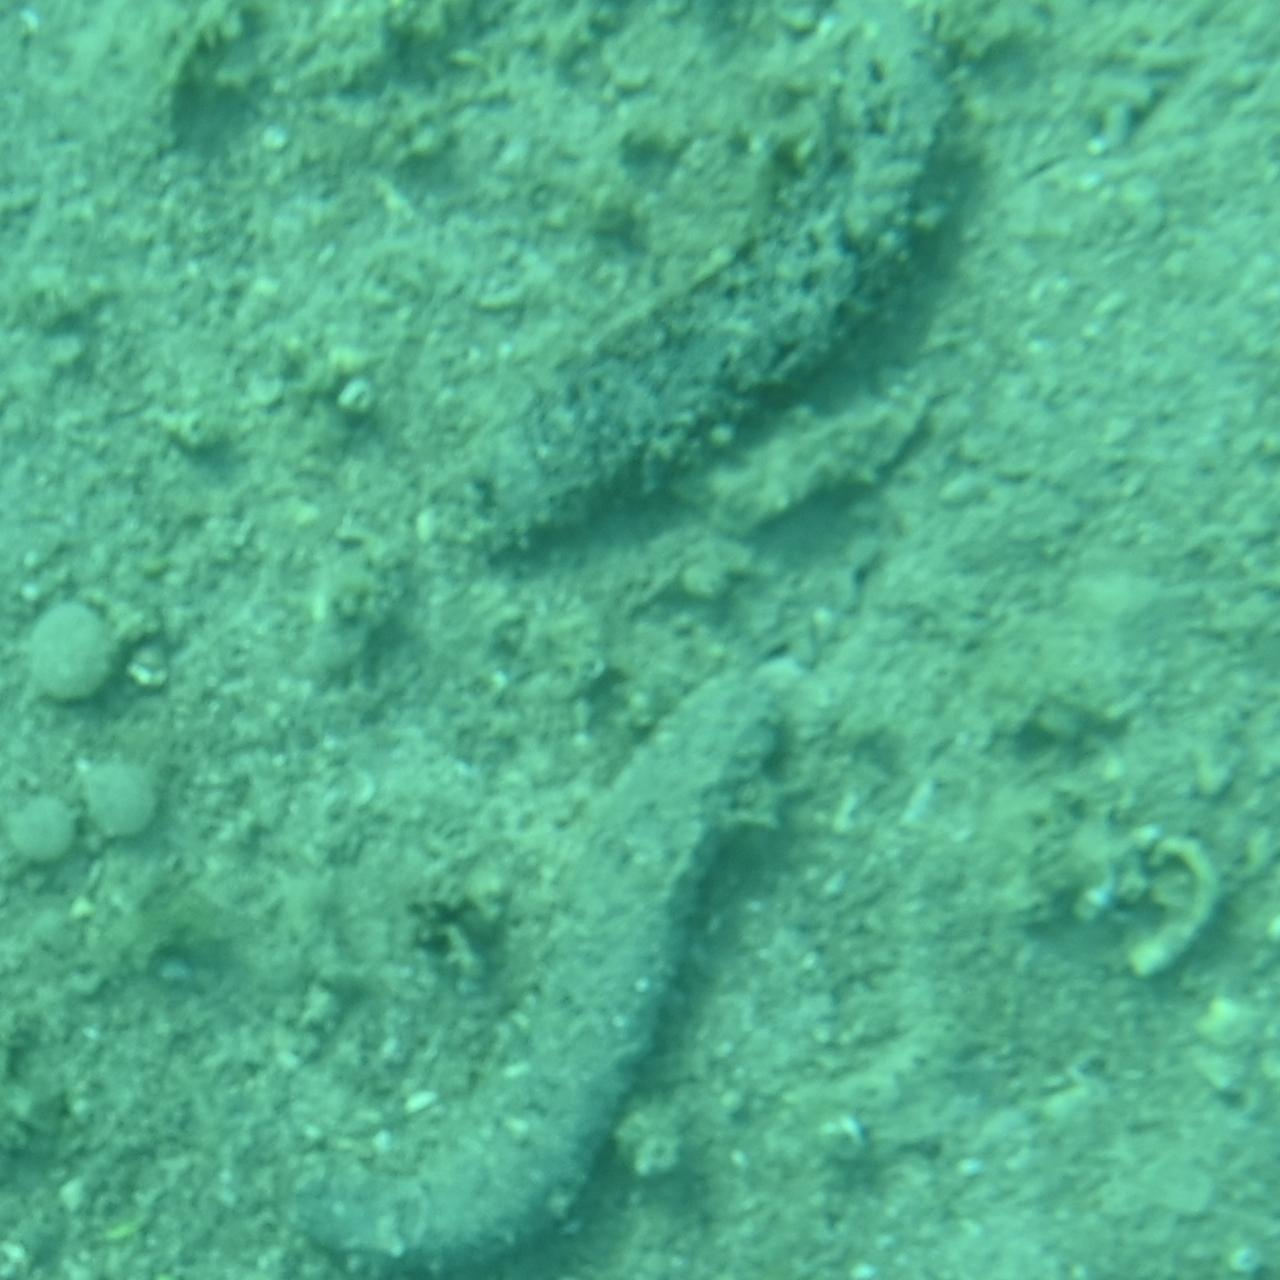Holothuria tubulosa: (292, 656, 824, 1280), (456, 13, 989, 578)
